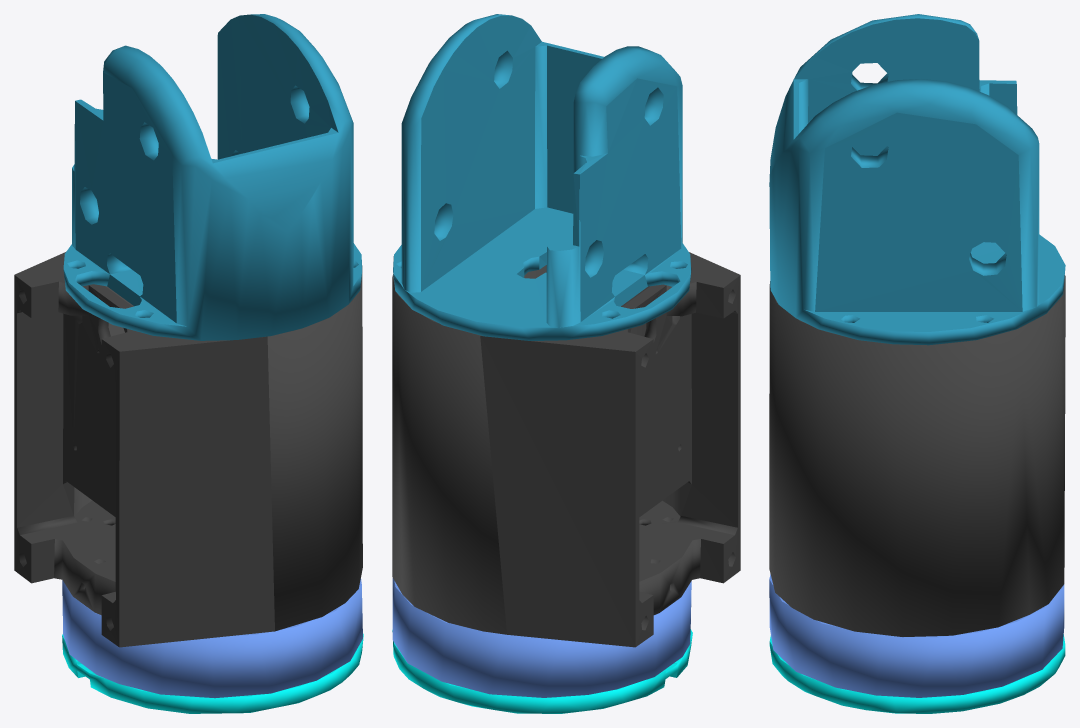
File: RARM_LINK2_mesh.dae
3 renders of one model, left to right at view 1: azimuth 30°, elevation 25°; view 2: azimuth 150°, elevation 25°; view 3: azimuth 270°, elevation 25°, orthographic.
Visible parts, largest first — view 1: サーフェス1_ncl1_8, サーフェス1, サーフェス1_ncl1_7, サーフェス1_ncl1_5; view 2: サーフェス1_ncl1_8, サーフェス1, サーフェス1_ncl1_7, サーフェス1_ncl1_5; view 3: サーフェス1_ncl1_8, サーフェス1, サーフェス1_ncl1_7, サーフェス1_ncl1_5.
Part boxes in pixels (x1=…): サーフェス1_ncl1_8: x1=14, y1=252, x2=362, y2=647; サーフェス1: x1=63, y1=14, x2=362, y2=340; サーフェス1_ncl1_7: x1=62, y1=578, x2=362, y2=698; サーフェス1_ncl1_5: x1=62, y1=633, x2=363, y2=713; サーフェス1_ncl1_8: x1=392, y1=252, x2=740, y2=647; サーフェス1: x1=393, y1=14, x2=691, y2=340; サーフェス1_ncl1_7: x1=392, y1=578, x2=691, y2=697; サーフェス1_ncl1_5: x1=392, y1=629, x2=692, y2=713; サーフェス1_ncl1_8: x1=769, y1=275, x2=1065, y2=636; サーフェス1: x1=769, y1=14, x2=1065, y2=345; サーフェス1_ncl1_7: x1=769, y1=574, x2=1064, y2=697; サーフェス1_ncl1_5: x1=769, y1=634, x2=1065, y2=713.
Bounding box in the file's own units: 0.0661 × 0.0621 × 0.1416.
